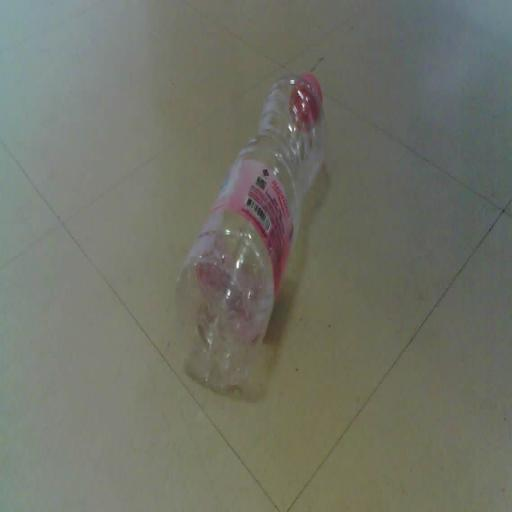bottle: (174, 74, 325, 392)
